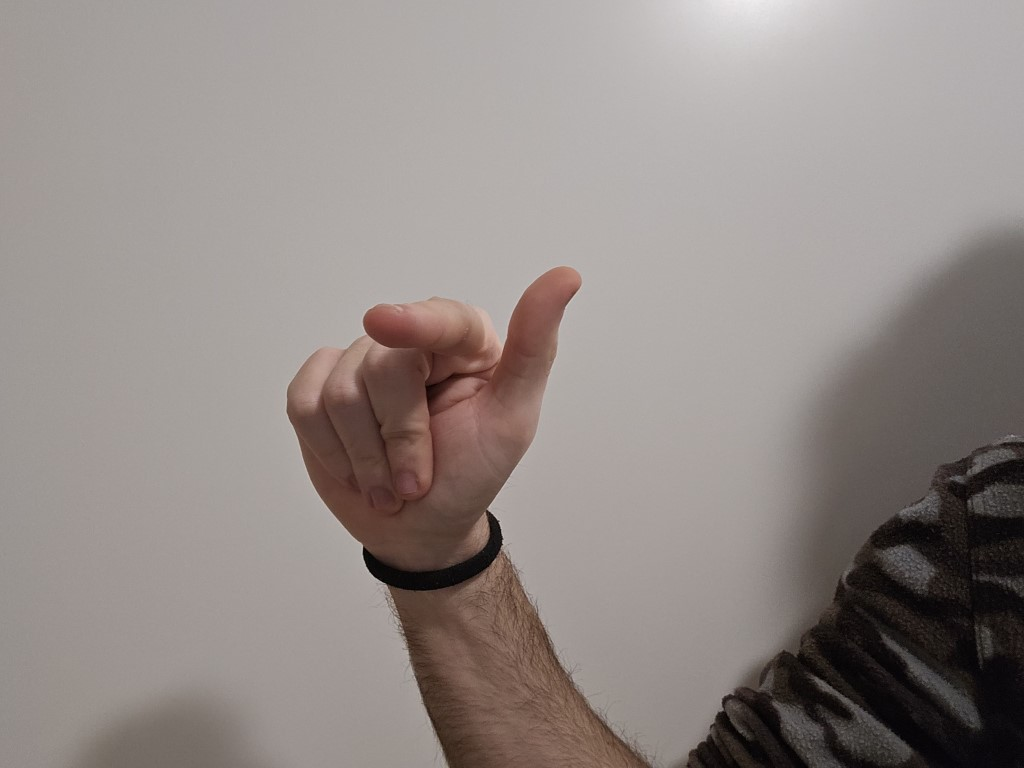t: (256, 244, 607, 549)
